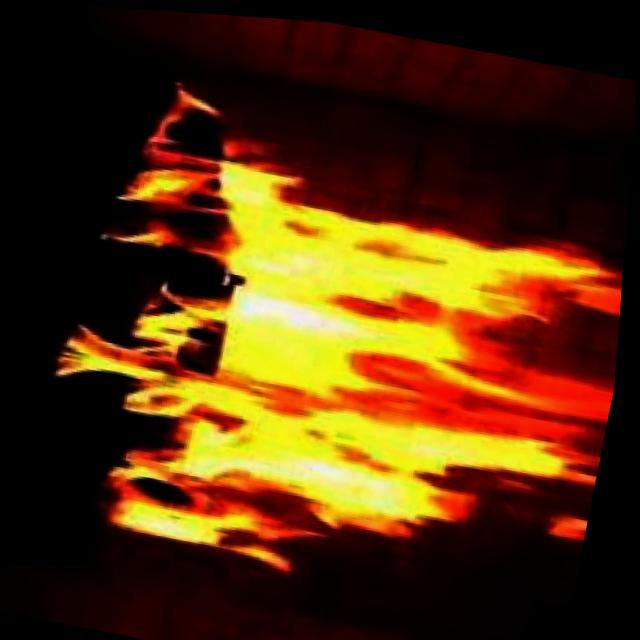Smoke: (10, 58, 637, 625)
